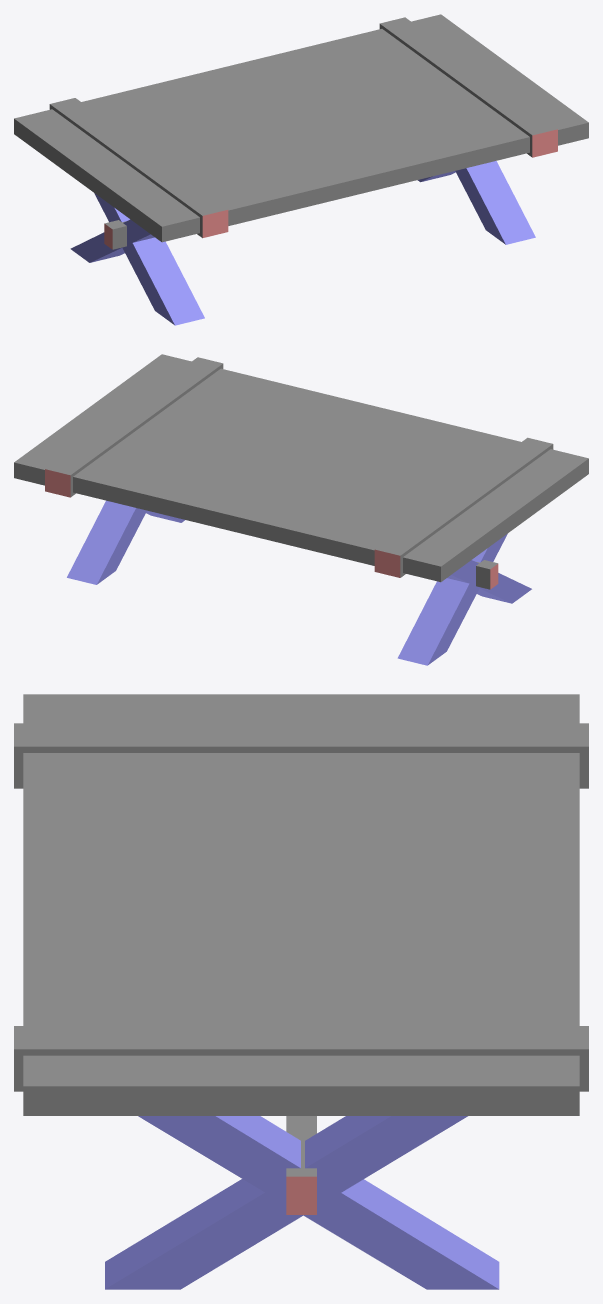
File: V_Obj_S__O_TTable01.gltf
The picture shows the model from 3 angles, top to bottom: view 1: azimuth 30°, elevation 25°; view 2: azimuth 150°, elevation 25°; view 3: azimuth 270°, elevation 25°; orthographic projection. The views are drawn at different scales.
Visible parts, largest first — view 1: O_TTable01; view 2: O_TTable01; view 3: O_TTable01.
Boxes of the visible parts, x1,y1,x2,y2 form: O_TTable01: (14, 14, 588, 325); O_TTable01: (14, 354, 588, 665); O_TTable01: (14, 694, 588, 1289).
Bounding box in the file's own units: 1 × 0.2833 × 0.62.
